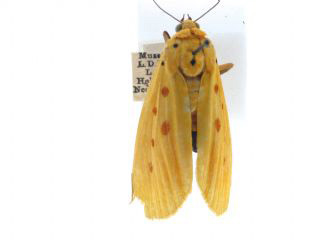Agape chloropyga: (130, 1, 239, 220)
moth: (129, 1, 238, 221)
